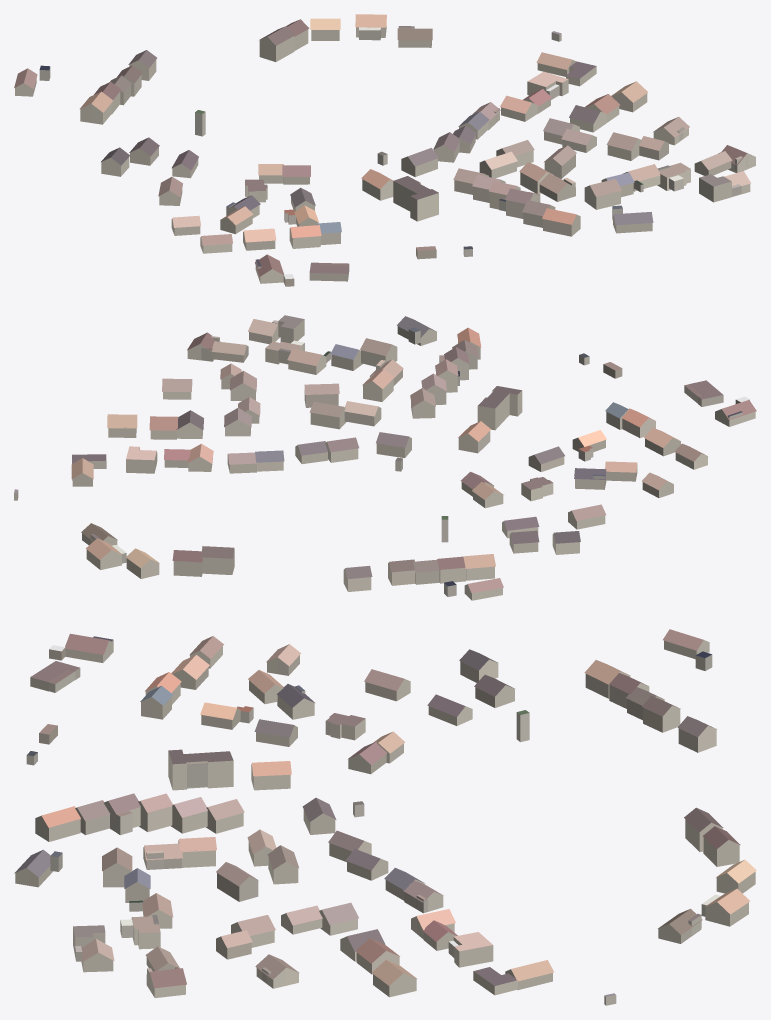
The picture shows the model from 3 angles, top to bottom: view 1: azimuth 30°, elevation 25°; view 2: azimuth 150°, elevation 25°; view 3: azimuth 270°, elevation 25°; orthographic projection. The views are drawn at different scales.
Parts seen in each view (by area): view 1: tuile; view 2: tuile; view 3: tuile.
Boxes of the visible parts, x1,y1,x2,y2 form: tuile: (14, 14, 755, 286); tuile: (14, 315, 756, 600); tuile: (14, 629, 756, 1005).
Size of the model in its own units: 258 by 29.02 by 257.
